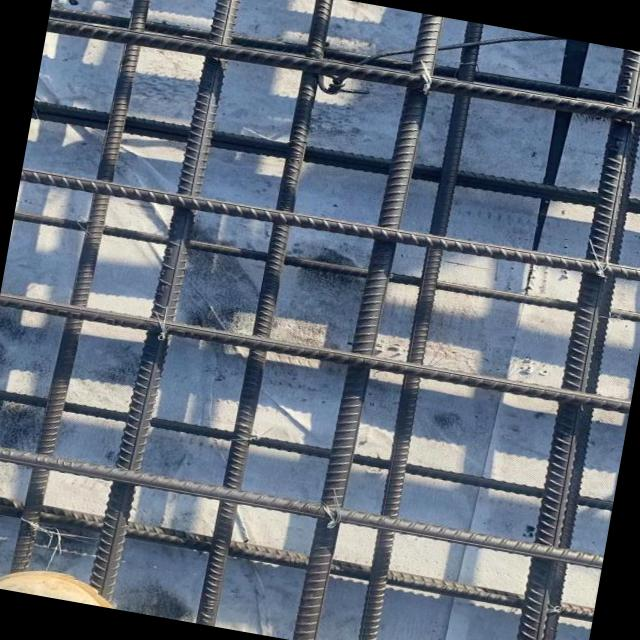ribbed bar: (82, 0, 242, 610), (289, 9, 441, 640), (193, 0, 334, 627), (7, 0, 158, 584), (30, 89, 640, 230), (19, 157, 640, 293), (352, 20, 487, 640), (46, 2, 640, 142), (13, 202, 640, 331), (0, 288, 630, 416), (506, 47, 640, 640), (0, 490, 594, 623), (0, 440, 603, 568), (0, 386, 613, 510), (48, 0, 640, 127)
